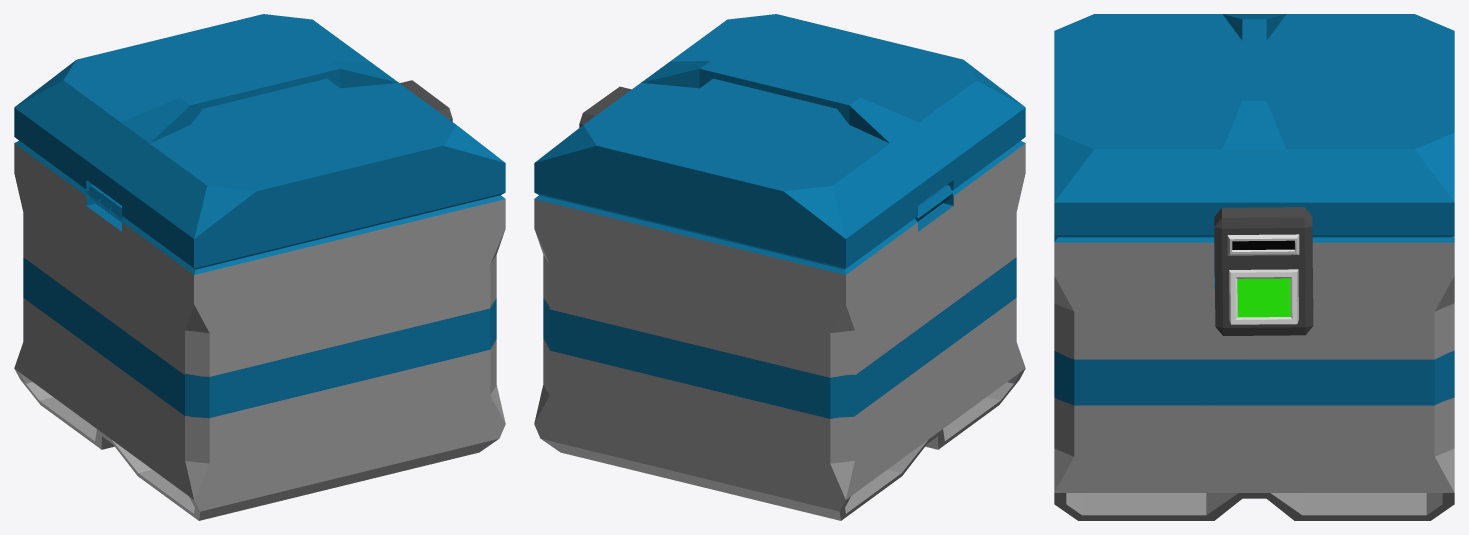
Rendered from SmallLootCrate.glb.
The picture shows the model from 3 angles, left to right: view 1: azimuth 30°, elevation 25°; view 2: azimuth 150°, elevation 25°; view 3: azimuth 270°, elevation 25°; orthographic projection. The views are drawn at different scales.
Parts seen in each view (by area): view 1: SciFiCrate, KeyPad; view 2: SciFiCrate, KeyPad; view 3: SciFiCrate, KeyPad.
Boxes of the visible parts, x1,y1,x2,y2 form: SciFiCrate: [14, 14, 505, 520]; KeyPad: [400, 80, 452, 121]; SciFiCrate: [534, 14, 1025, 520]; KeyPad: [579, 86, 631, 127]; SciFiCrate: [1054, 14, 1454, 520]; KeyPad: [1214, 207, 1313, 335].
Size of the model in its own units: 1.11 by 1.06 by 1.
5 materials, 1 textured.
